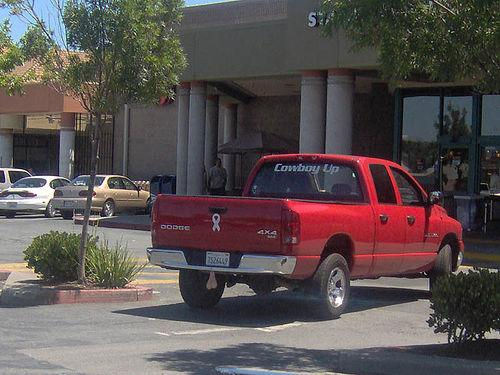truck: (147, 151, 465, 321)
